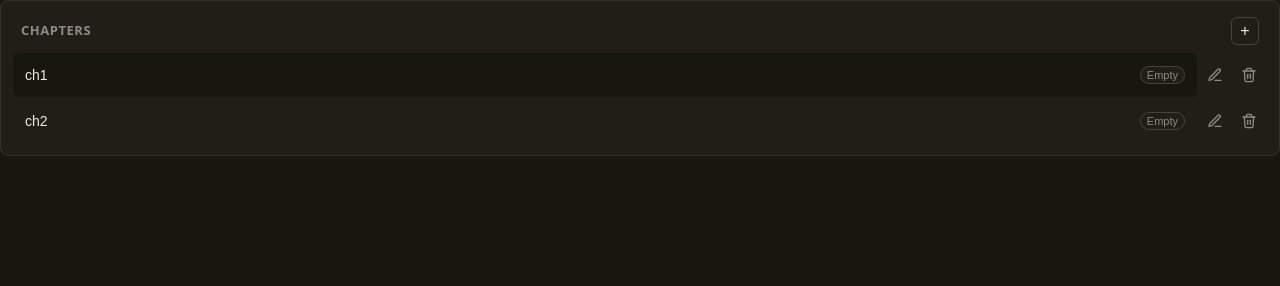
ChapterRail › surfaces duplicate rename errors without clearing selection
Click the button named "Rename chapter ch1". click: point(1215, 75)
box: x1=1199 y1=59 x2=1231 y2=91
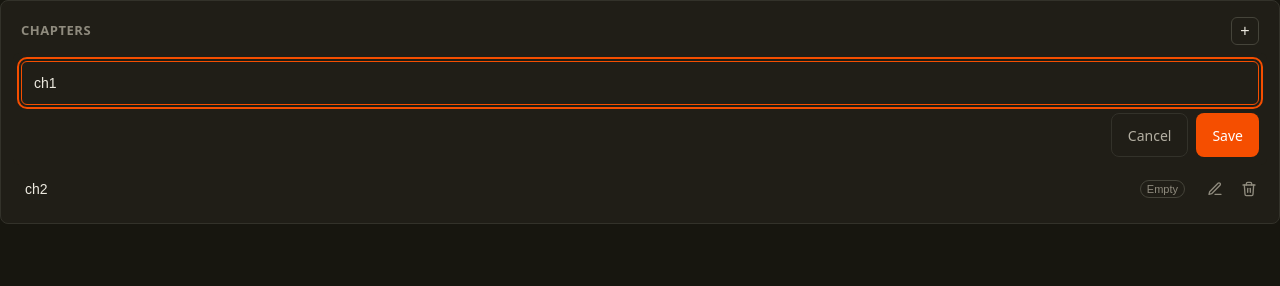
Replace the text in the field named "Rename chapter ch1" with "ch2". click: point(640, 83)
box: x1=21 y1=61 x2=1259 y2=105
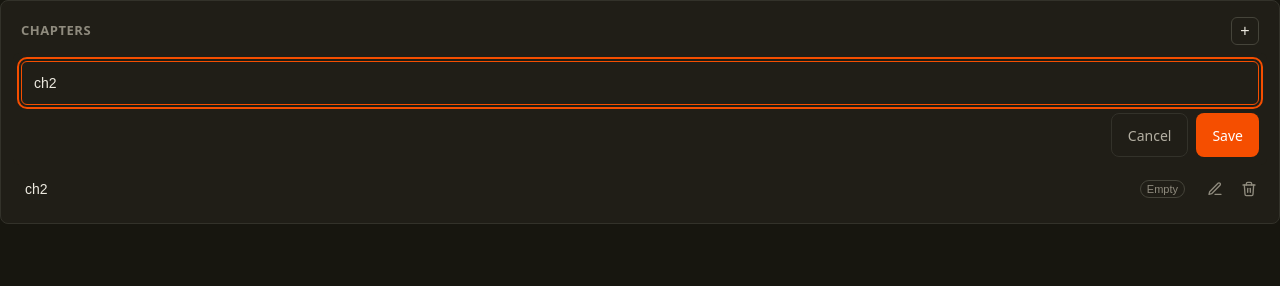
Click the button "Save". click: point(1228, 135)
box: x1=1196 y1=113 x2=1259 y2=157
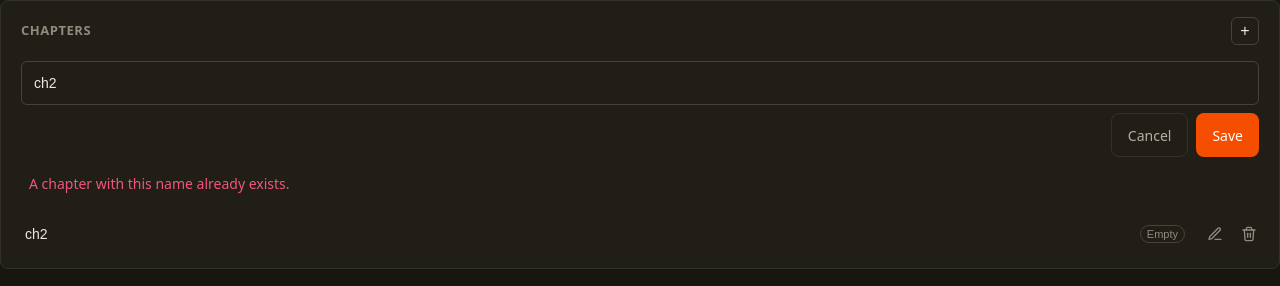
Now the button "Save" is shown, box x1=1196 y1=113 x2=1259 y2=157
Now the text "A chapter with this name already exists." is shown, box x1=29 y1=174 x2=290 y2=193
